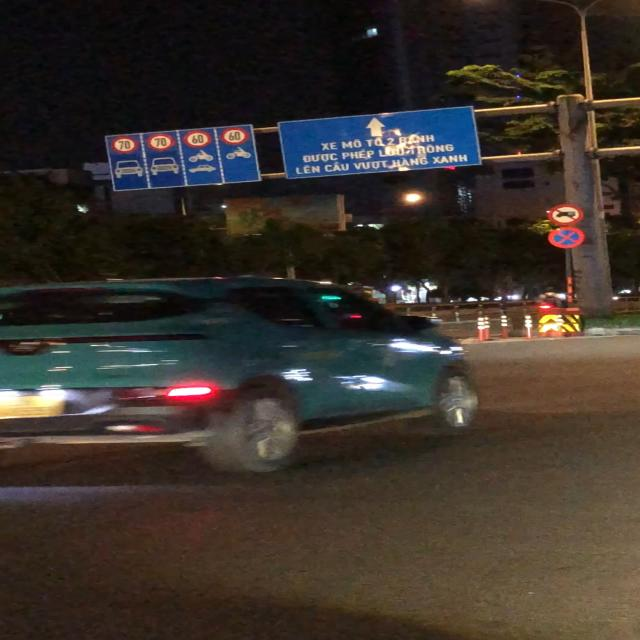Bien bao cam dung xe va do xe: (546, 227, 587, 248)
Bien bao cam xe oto tai: (544, 203, 588, 225)
Bien bao toc do toi da cho phep: (217, 127, 252, 146), (183, 129, 213, 149), (145, 132, 176, 151), (109, 136, 138, 154)
